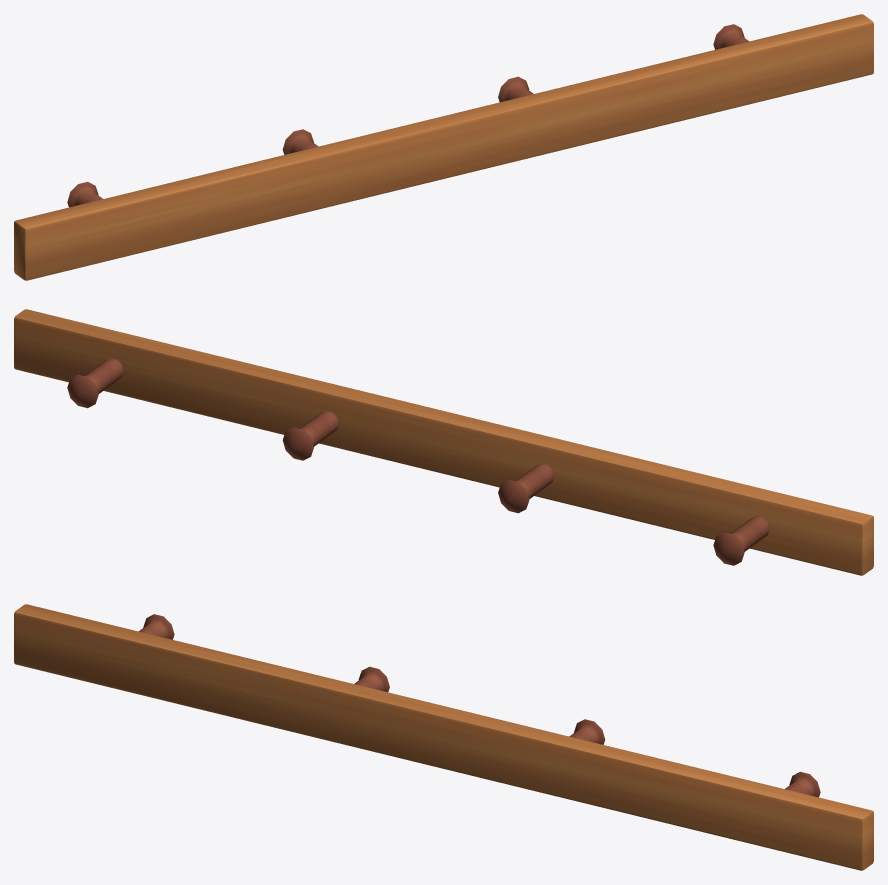
The model's file is SM_Rail_Herb.fbx.
3 renders of one model, top to bottom at view 1: azimuth 30°, elevation 25°; view 2: azimuth 150°, elevation 25°; view 3: azimuth 330°, elevation 25°, orthographic.
Visible parts, largest first — view 1: SM_Rail_Herb; view 2: SM_Rail_Herb; view 3: SM_Rail_Herb.
Part boxes in pixels (x1,y1,x2,y2): SM_Rail_Herb: [14, 14, 873, 280]; SM_Rail_Herb: [14, 309, 873, 575]; SM_Rail_Herb: [14, 604, 873, 870].
Size of the model in its own units: 1 by 0.06 by 0.1.
Materials: 2 (2 with a texture image).
